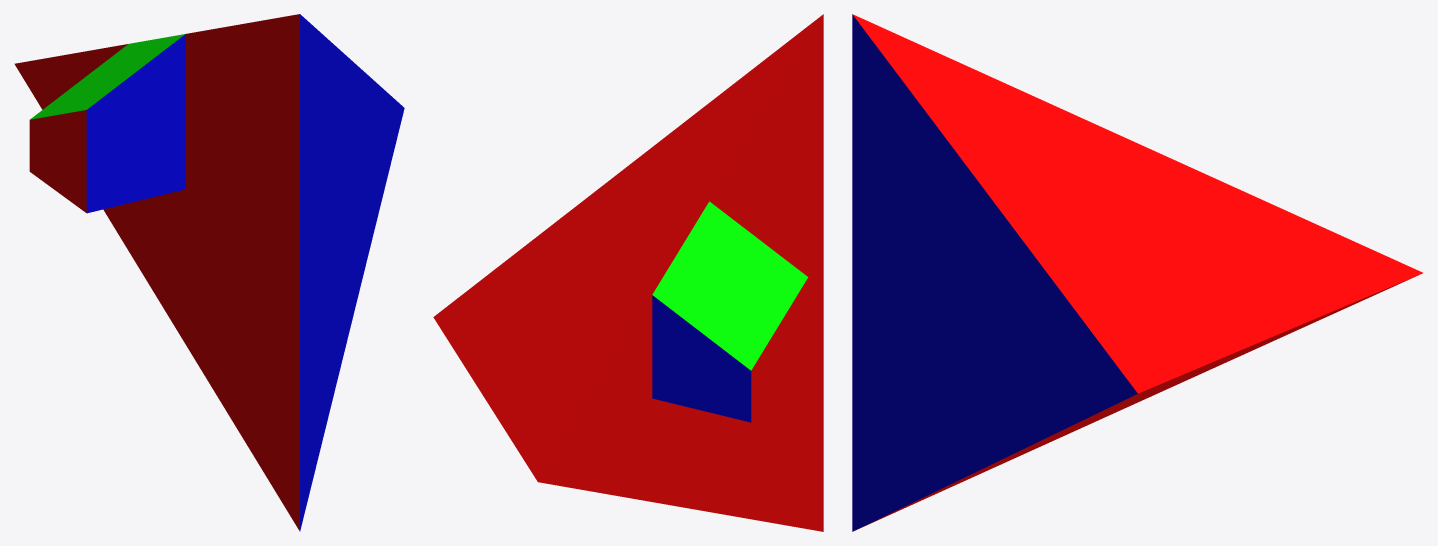
Rendered from ConnectionFollower.obj.
3 renders of one model, left to right at view 1: azimuth 30°, elevation 25°; view 2: azimuth 150°, elevation 25°; view 3: azimuth 270°, elevation 25°, orthographic.
Visible parts, largest first — view 1: object_7, object_12, object_6, object_2, object_8, object_1, object_9, object_5; view 2: object_11, object_6, object_7, object_9, object_3, object_5, object_8, object_1; view 3: object_12, object_11, object_10.
Part boxes in pixels (bbox=[...]): object_7: bbox=[186, 14, 299, 530]; object_12: bbox=[300, 14, 404, 531]; object_6: bbox=[15, 64, 299, 530]; object_2: bbox=[86, 34, 185, 213]; object_8: bbox=[185, 14, 299, 188]; object_1: bbox=[29, 110, 86, 212]; object_9: bbox=[30, 34, 184, 119]; object_5: bbox=[14, 44, 127, 96]; object_11: bbox=[433, 14, 823, 481]; object_6: bbox=[538, 398, 823, 531]; object_7: bbox=[750, 15, 823, 531]; object_9: bbox=[652, 201, 808, 370]; object_3: bbox=[652, 295, 751, 422]; object_5: bbox=[538, 295, 652, 481]; object_8: bbox=[709, 15, 823, 232]; object_1: bbox=[751, 278, 808, 422]; object_12: bbox=[852, 14, 1137, 531]; object_11: bbox=[852, 14, 1422, 393]; object_10: bbox=[859, 275, 1418, 528].
Size of the model in its own units: 14 by 20 by 20.
